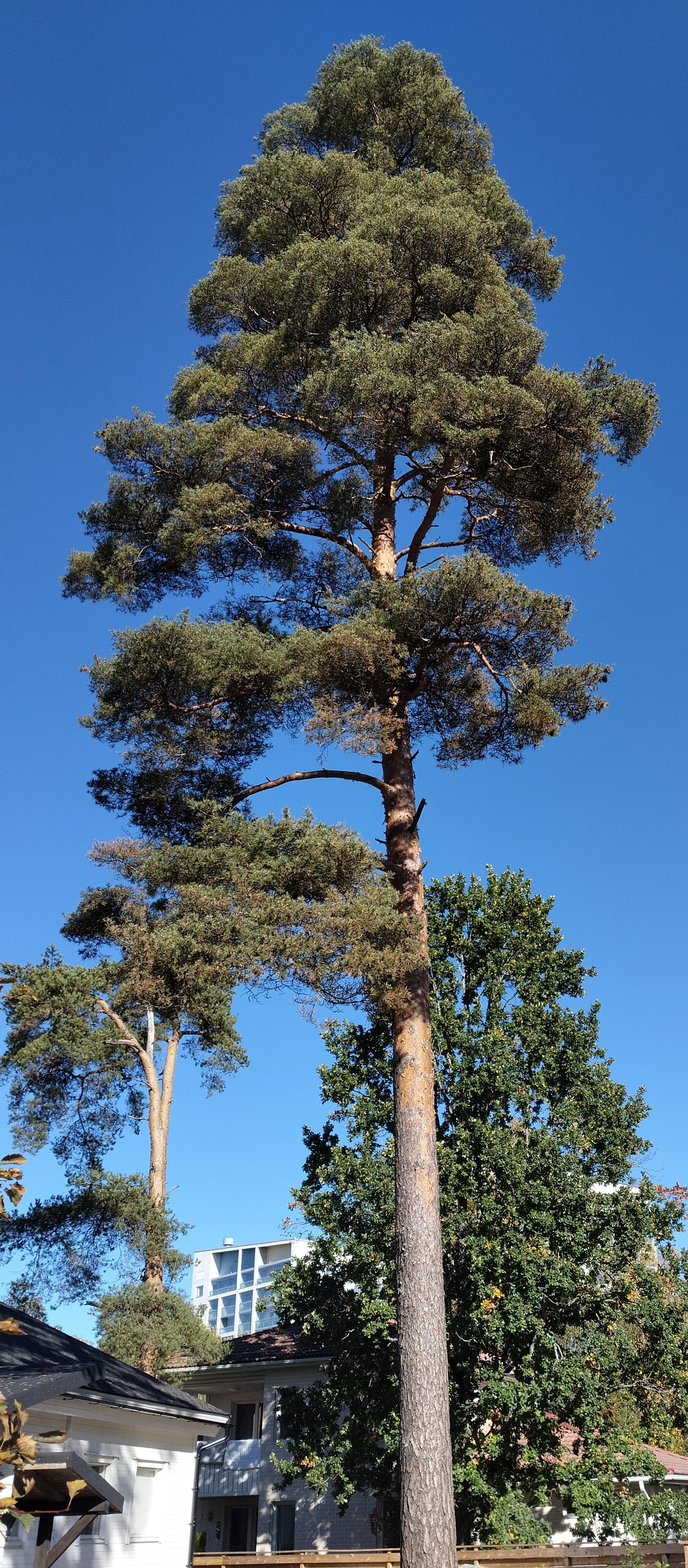Pine: (154, 33, 528, 1557), (12, 20, 688, 808)
